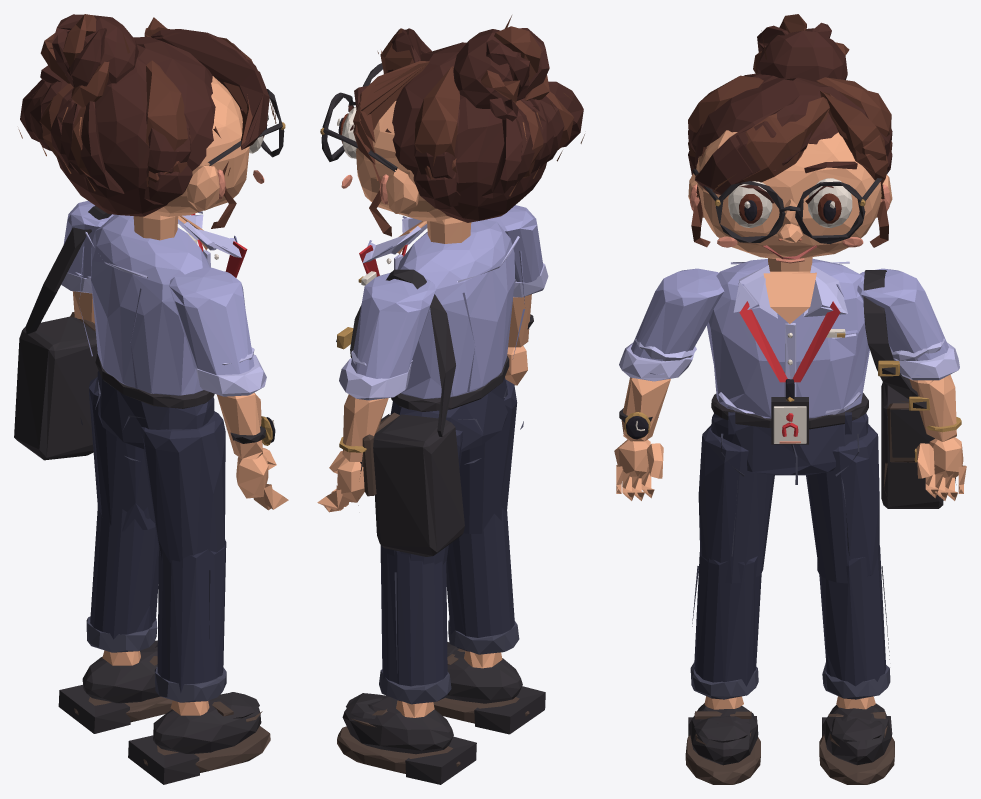
File: npc.civilian-woman-b.lod1.glb
The picture shows the model from 3 angles, left to right: view 1: azimuth 30°, elevation 25°; view 2: azimuth 150°, elevation 25°; view 3: azimuth 270°, elevation 25°; orthographic projection. The views are drawn at different scales.
Parts seen in each view (by area): view 1: head, torso, shinR, legR, footR, shinL, armR, footL, hip, legL, foreArmR, handR (+2 smaller); view 2: head, torso, shinL, footL, shinR, armL, footR, legR, hip, foreArmL, armR, handL (+3 smaller); view 3: head, torso, shinR, legR, legL, shinL, hip, armR, footL, footR, armL, foreArmR (+3 smaller).
Boxes of the visible parts, <box> form: head: <box>18,14,285,240</box>; torso: <box>14,206,247,460</box>; shinR: <box>154,539,226,702</box>; legR: <box>141,411,225,562</box>; footR: <box>128,692,270,784</box>; shinL: <box>86,507,158,652</box>; armR: <box>169,267,254,375</box>; footL: <box>58,640,172,733</box>; hip: <box>80,353,214,461</box>; legL: <box>89,377,155,531</box>; foreArmR: <box>196,354,275,459</box>; handR: <box>236,448,288,510</box>; head: <box>320,15,584,243</box>; torso: <box>336,216,525,556</box>; shinL: <box>379,551,451,704</box>; footL: <box>337,693,476,784</box>; shinR: <box>446,508,519,654</box>; armL: <box>351,272,435,378</box>; footR: <box>433,642,545,734</box>; legR: <box>459,380,517,533</box>; hip: <box>390,356,523,464</box>; foreArmL: <box>339,358,411,461</box>; armR: <box>486,205,543,282</box>; handL: <box>317,451,364,512</box>; head: <box>688,14,892,271</box>; torso: <box>707,258,956,508</box>; shinR: <box>690,549,761,699</box>; legR: <box>698,425,774,583</box>; legL: <box>806,424,879,583</box>; shinL: <box>819,545,890,699</box>; hip: <box>711,393,868,484</box>; armR: <box>631,268,724,361</box>; footL: <box>819,696,894,784</box>; footR: <box>685,696,760,784</box>; armL: <box>857,268,948,360</box>; foreArmR: <box>619,342,694,441</box>.
Bounding box in the file's own units: 0.4109 × 1.4 × 0.6295.
